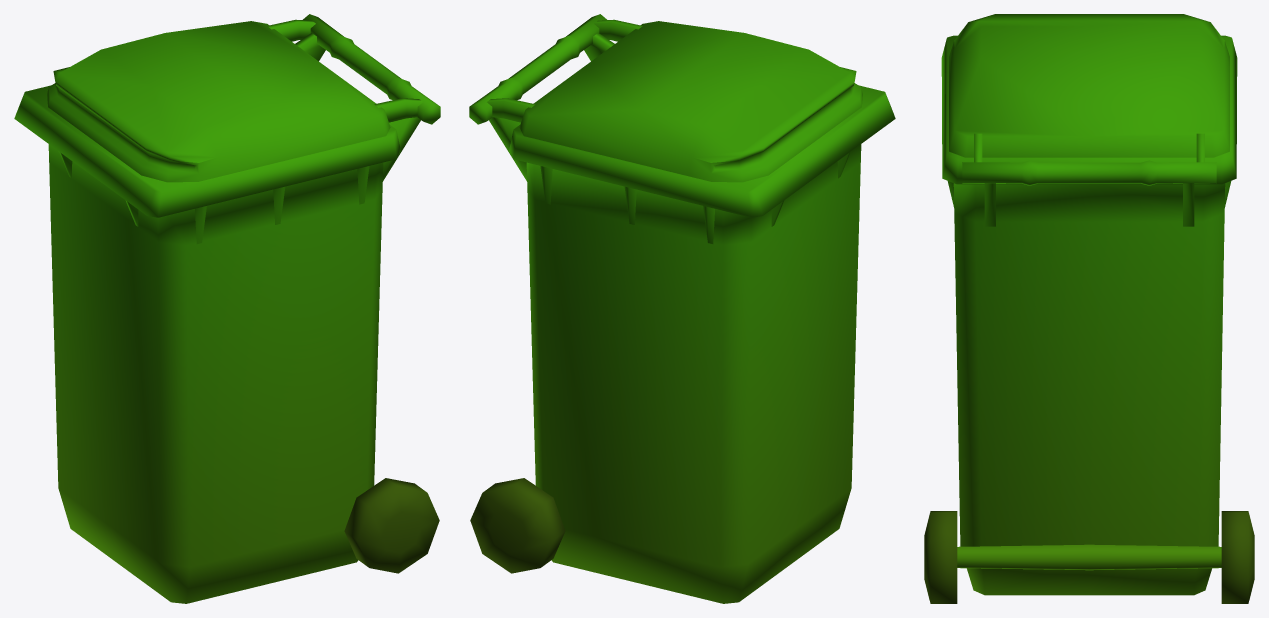
The model's file is WheelyBinBlueNight.glb.
3 views of the same model, side by side, from view 1: azimuth 30°, elevation 25°; view 2: azimuth 150°, elevation 25°; view 3: azimuth 270°, elevation 25° (orthographic). The views are drawn at different scales.
Visible parts, largest first — view 1: WheelyBinBlueNight; view 2: WheelyBinBlueNight; view 3: WheelyBinBlueNight.
Part boxes in pixels (left/top/right/bottom): WheelyBinBlueNight: left=14, top=14, right=440, bottom=603; WheelyBinBlueNight: left=469, top=14, right=895, bottom=603; WheelyBinBlueNight: left=924, top=14, right=1254, bottom=603.
Bounding box in the file's own units: 1.42 × 2.14 × 1.31.
Materials: 1 (1 with a texture image).
